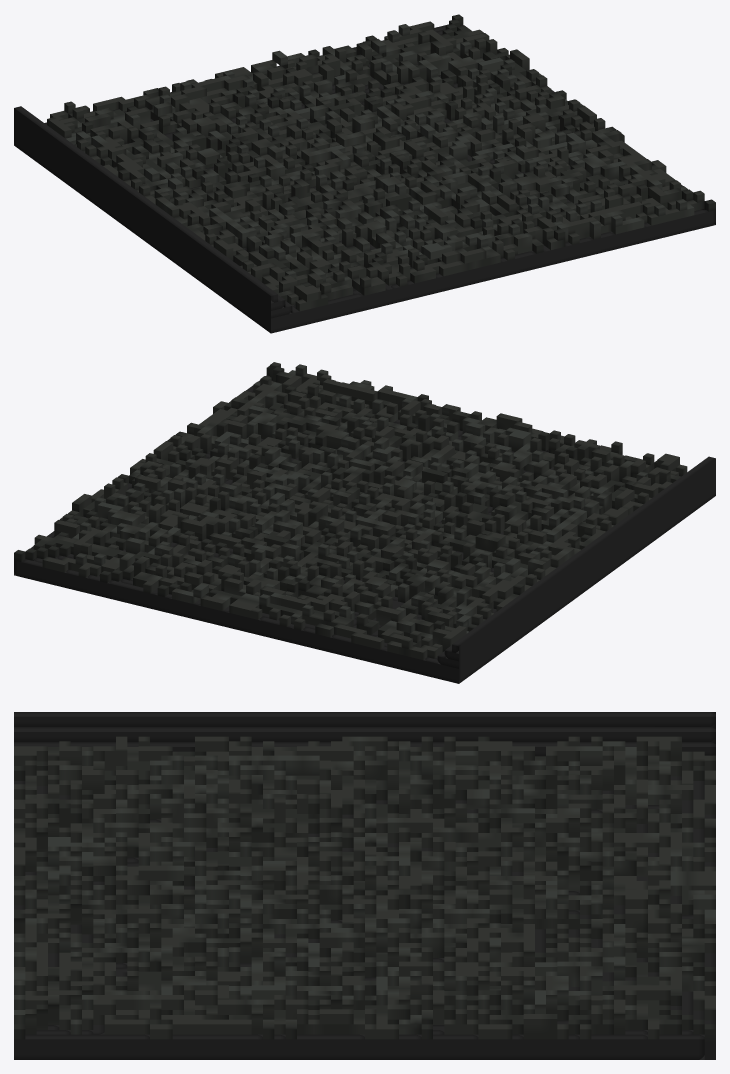
Rendered from DarkFloorRightEdge.fbx.
3 renders of one model, top to bottom at view 1: azimuth 30°, elevation 25°; view 2: azimuth 150°, elevation 25°; view 3: azimuth 270°, elevation 25°, orthographic. The views are drawn at different scales.
Parts seen in each view (by area): view 1: Model; view 2: Model; view 3: Model.
Part boxes in pixels (left/top/right/bottom): Model: left=14, top=14, right=715, bottom=333; Model: left=14, top=362, right=715, bottom=683; Model: left=14, top=712, right=715, bottom=1059.
Size of the model in its own units: 3200 by 258 by 3200.
1 material, 1 textured.
